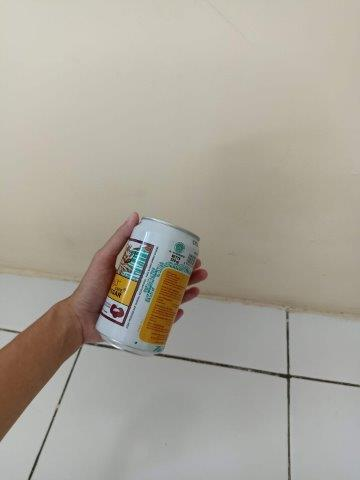kaleng: (96, 218, 201, 357)
